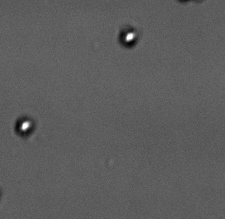Living Cell: (14, 116, 36, 137), (119, 25, 139, 48)
